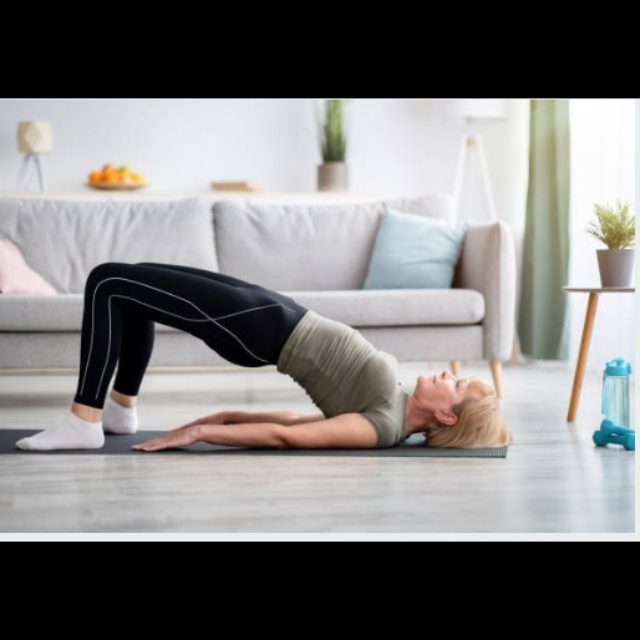Bridge_Pose: (9, 250, 521, 467)
